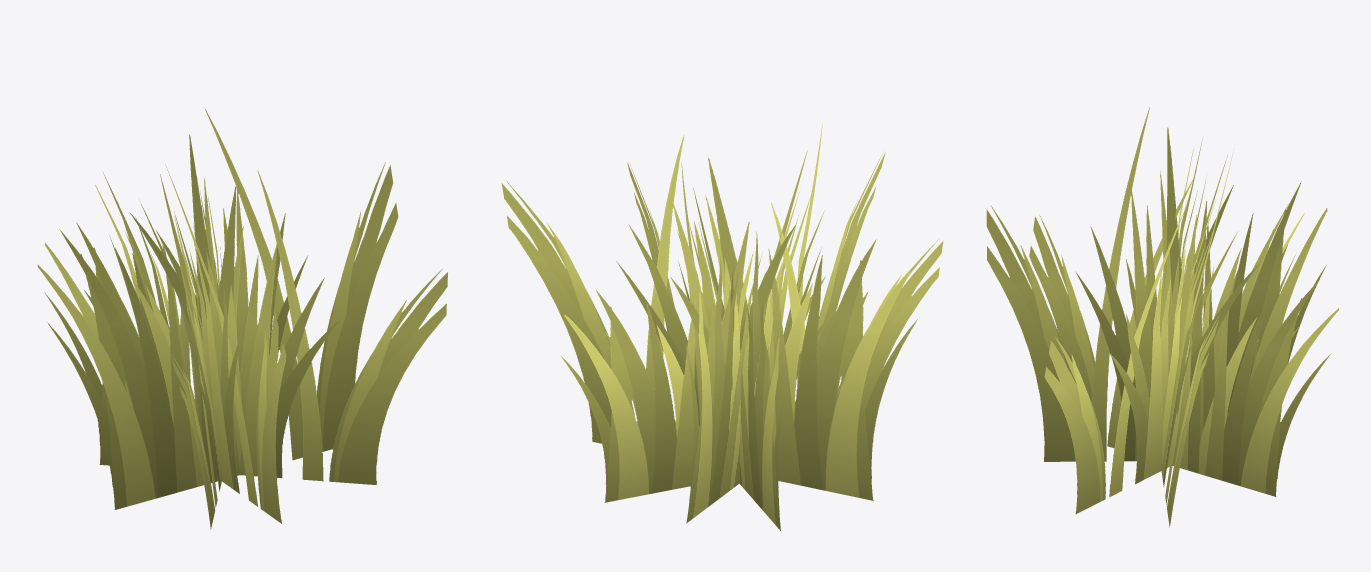
Rendered from savanna_grass_2_mid.glb.
3 renders of one model, left to right at view 1: azimuth 30°, elevation 25°; view 2: azimuth 150°, elevation 25°; view 3: azimuth 270°, elevation 25°, orthographic. The views are drawn at different scales.
Visible parts, largest first — view 1: savanna_grass_2_mid; view 2: savanna_grass_2_mid; view 3: savanna_grass_2_mid.
Boxes of the visible parts, bbox=[...] form: savanna_grass_2_mid: bbox=[37, 107, 447, 529]; savanna_grass_2_mid: bbox=[501, 124, 943, 530]; savanna_grass_2_mid: bbox=[986, 107, 1339, 527].
Bounding box in the file's own units: 0.9058 × 0.8903 × 0.8105.
1 material, 1 textured.
